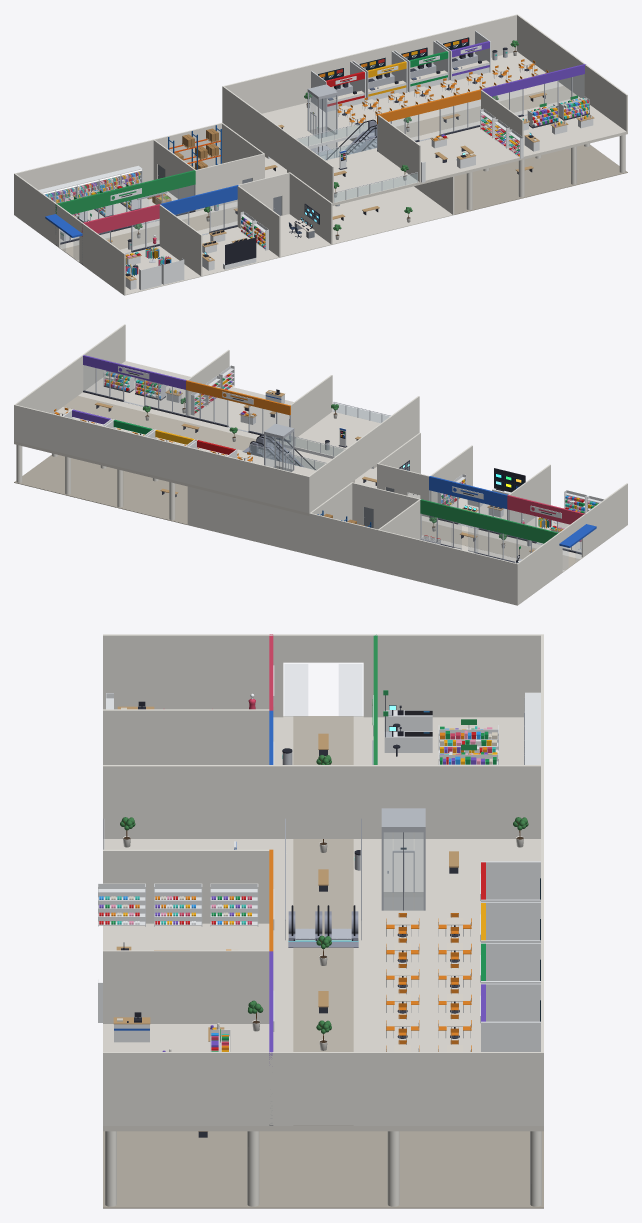
File: mal-001.glb
3 views of the same model, one above another, from view 1: azimuth 30°, elevation 25°; view 2: azimuth 150°, elevation 25°; view 3: azimuth 270°, elevation 25° (orthographic). The views are drawn at different scales.
Visible parts, largest first — view 1: mall_wall, mall_floor, white, glass_clear, plaza_paving, stainless, mall_floor_inlay, brand_grocery, brand_shoes, brand_home, balustrade_glass_0, brand_fashion (+14 smaller); view 2: mall_wall, mall_floor, glass_clear, plaza_paving, mall_floor_inlay, white, stainless, brand_grocery, brand_electronics, balustrade_glass_0, brand_home, brand_fashion (+8 smaller); view 3: mall_wall, mall_floor, plaza_paving, white, mall_floor_inlay, glass_clear, brand_shoes, stainless, laminate, brushed_steel, oak, brand_home (+5 smaller).
Part boxes in pixels (box(x1,y1,x2,y2)): mall_wall: box(14, 14, 627, 294); mall_floor: box(14, 51, 627, 295); white: box(38, 30, 593, 290); glass_clear: box(46, 75, 583, 260); plaza_paving: box(454, 144, 627, 214); stainless: box(48, 49, 572, 262); mall_floor_inlay: box(62, 86, 578, 260); brand_grocery: box(55, 95, 577, 235); brand_shoes: box(337, 59, 548, 159); brand_home: box(45, 41, 586, 233); balustrade_glass_0: box(298, 122, 417, 202); brand_fashion: box(57, 100, 588, 274); mall_wall: box(14, 324, 627, 604); mall_floor: box(14, 361, 627, 605); glass_clear: box(84, 366, 581, 570); plaza_paving: box(14, 454, 187, 524); mall_floor_inlay: box(63, 396, 579, 570); white: box(63, 365, 603, 562); stainless: box(95, 368, 571, 560); brand_grocery: box(343, 432, 558, 549); brand_electronics: box(265, 395, 596, 547); balustrade_glass_0: box(250, 403, 389, 470); brand_home: box(72, 355, 579, 511); brand_fashion: box(104, 378, 585, 541); mall_wall: box(103, 634, 543, 1206); mall_floor: box(103, 716, 543, 1131); plaza_paving: box(103, 1131, 543, 1208); white: box(98, 665, 540, 1051); mall_floor_inlay: box(293, 716, 353, 1125); glass_clear: box(285, 664, 423, 910); brand_shoes: box(269, 849, 471, 1051); stainless: box(103, 698, 524, 1123); laminate: box(394, 918, 462, 1051); brushed_steel: box(288, 911, 358, 947); oak: box(113, 706, 458, 1131); brand_home: box(99, 728, 487, 1059).
Size of the model in its own units: 59.2 by 9.38 by 22.25.
